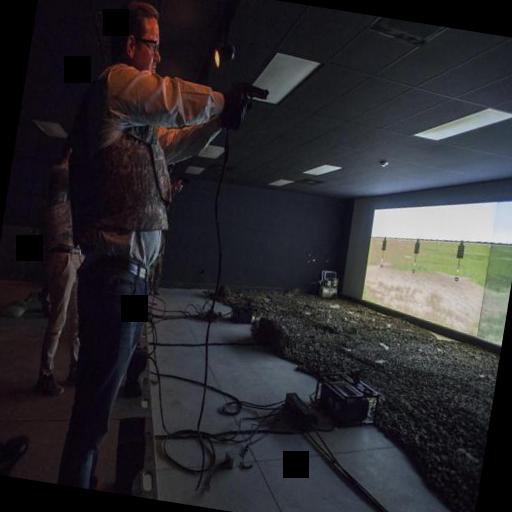Handgun: (226, 75, 272, 109)
